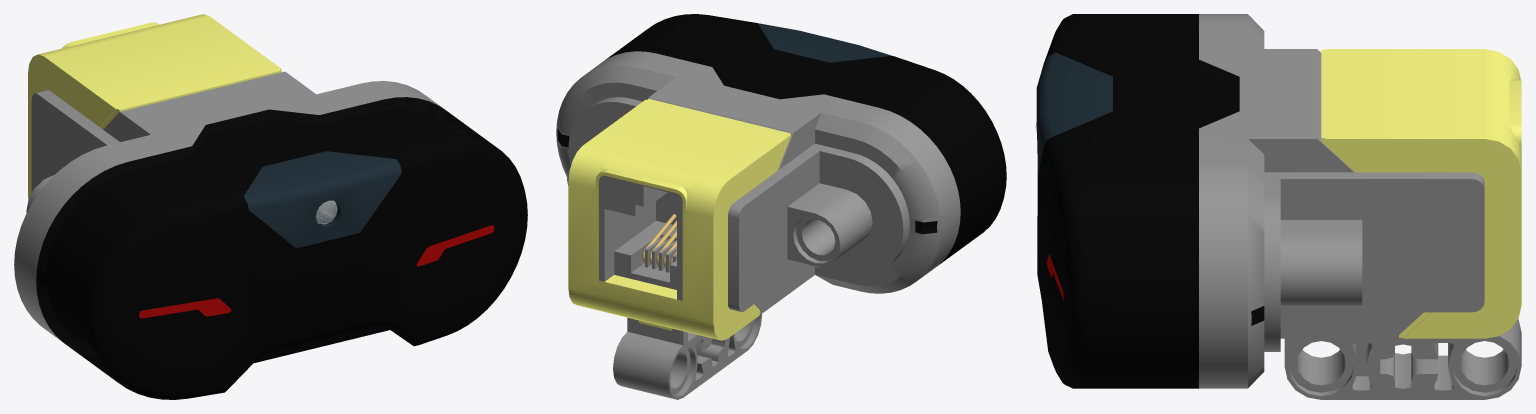
The picture shows the model from 3 angles, left to right: view 1: azimuth 30°, elevation 25°; view 2: azimuth 150°, elevation 25°; view 3: azimuth 270°, elevation 25°; orthographic projection. The views are drawn at different scales.
Visible parts, largest first — view 1: 99392p01.dat, 99378.dat, 99376.dat, 11016.dat; view 2: 99378.dat, 99376.dat, 99392p01.dat, 54732b.dat, 11016.dat; view 3: 99378.dat, 99392p01.dat, 99376.dat, 11016.dat.
Boxes of the visible parts, bbox=[...] form: 99392p01.dat: bbox=[36, 97, 527, 399]; 99378.dat: bbox=[14, 71, 444, 341]; 99376.dat: bbox=[28, 14, 281, 199]; 11016.dat: bbox=[244, 151, 401, 248]; 99378.dat: bbox=[556, 51, 960, 399]; 99376.dat: bbox=[568, 99, 790, 340]; 99392p01.dat: bbox=[557, 14, 1006, 265]; 54732b.dat: bbox=[599, 175, 682, 300]; 11016.dat: bbox=[758, 23, 891, 62]; 99378.dat: bbox=[1199, 14, 1521, 399]; 99392p01.dat: bbox=[1037, 14, 1264, 388]; 99376.dat: bbox=[1321, 49, 1521, 338]; 11016.dat: bbox=[1036, 52, 1112, 173].
Size of the model in its own units: 0.0552 by 0.0312 by 0.0476.
